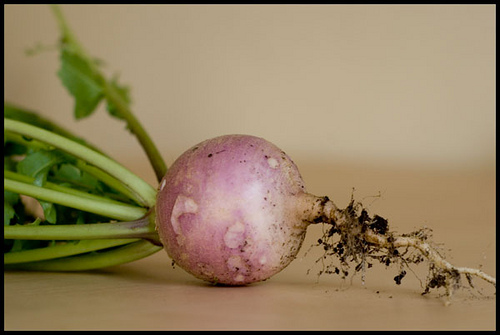turnip: (6, 5, 499, 306)
